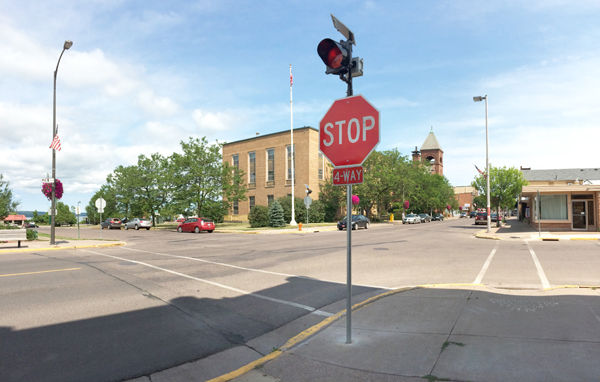stop_sign: (317, 94, 380, 167)
